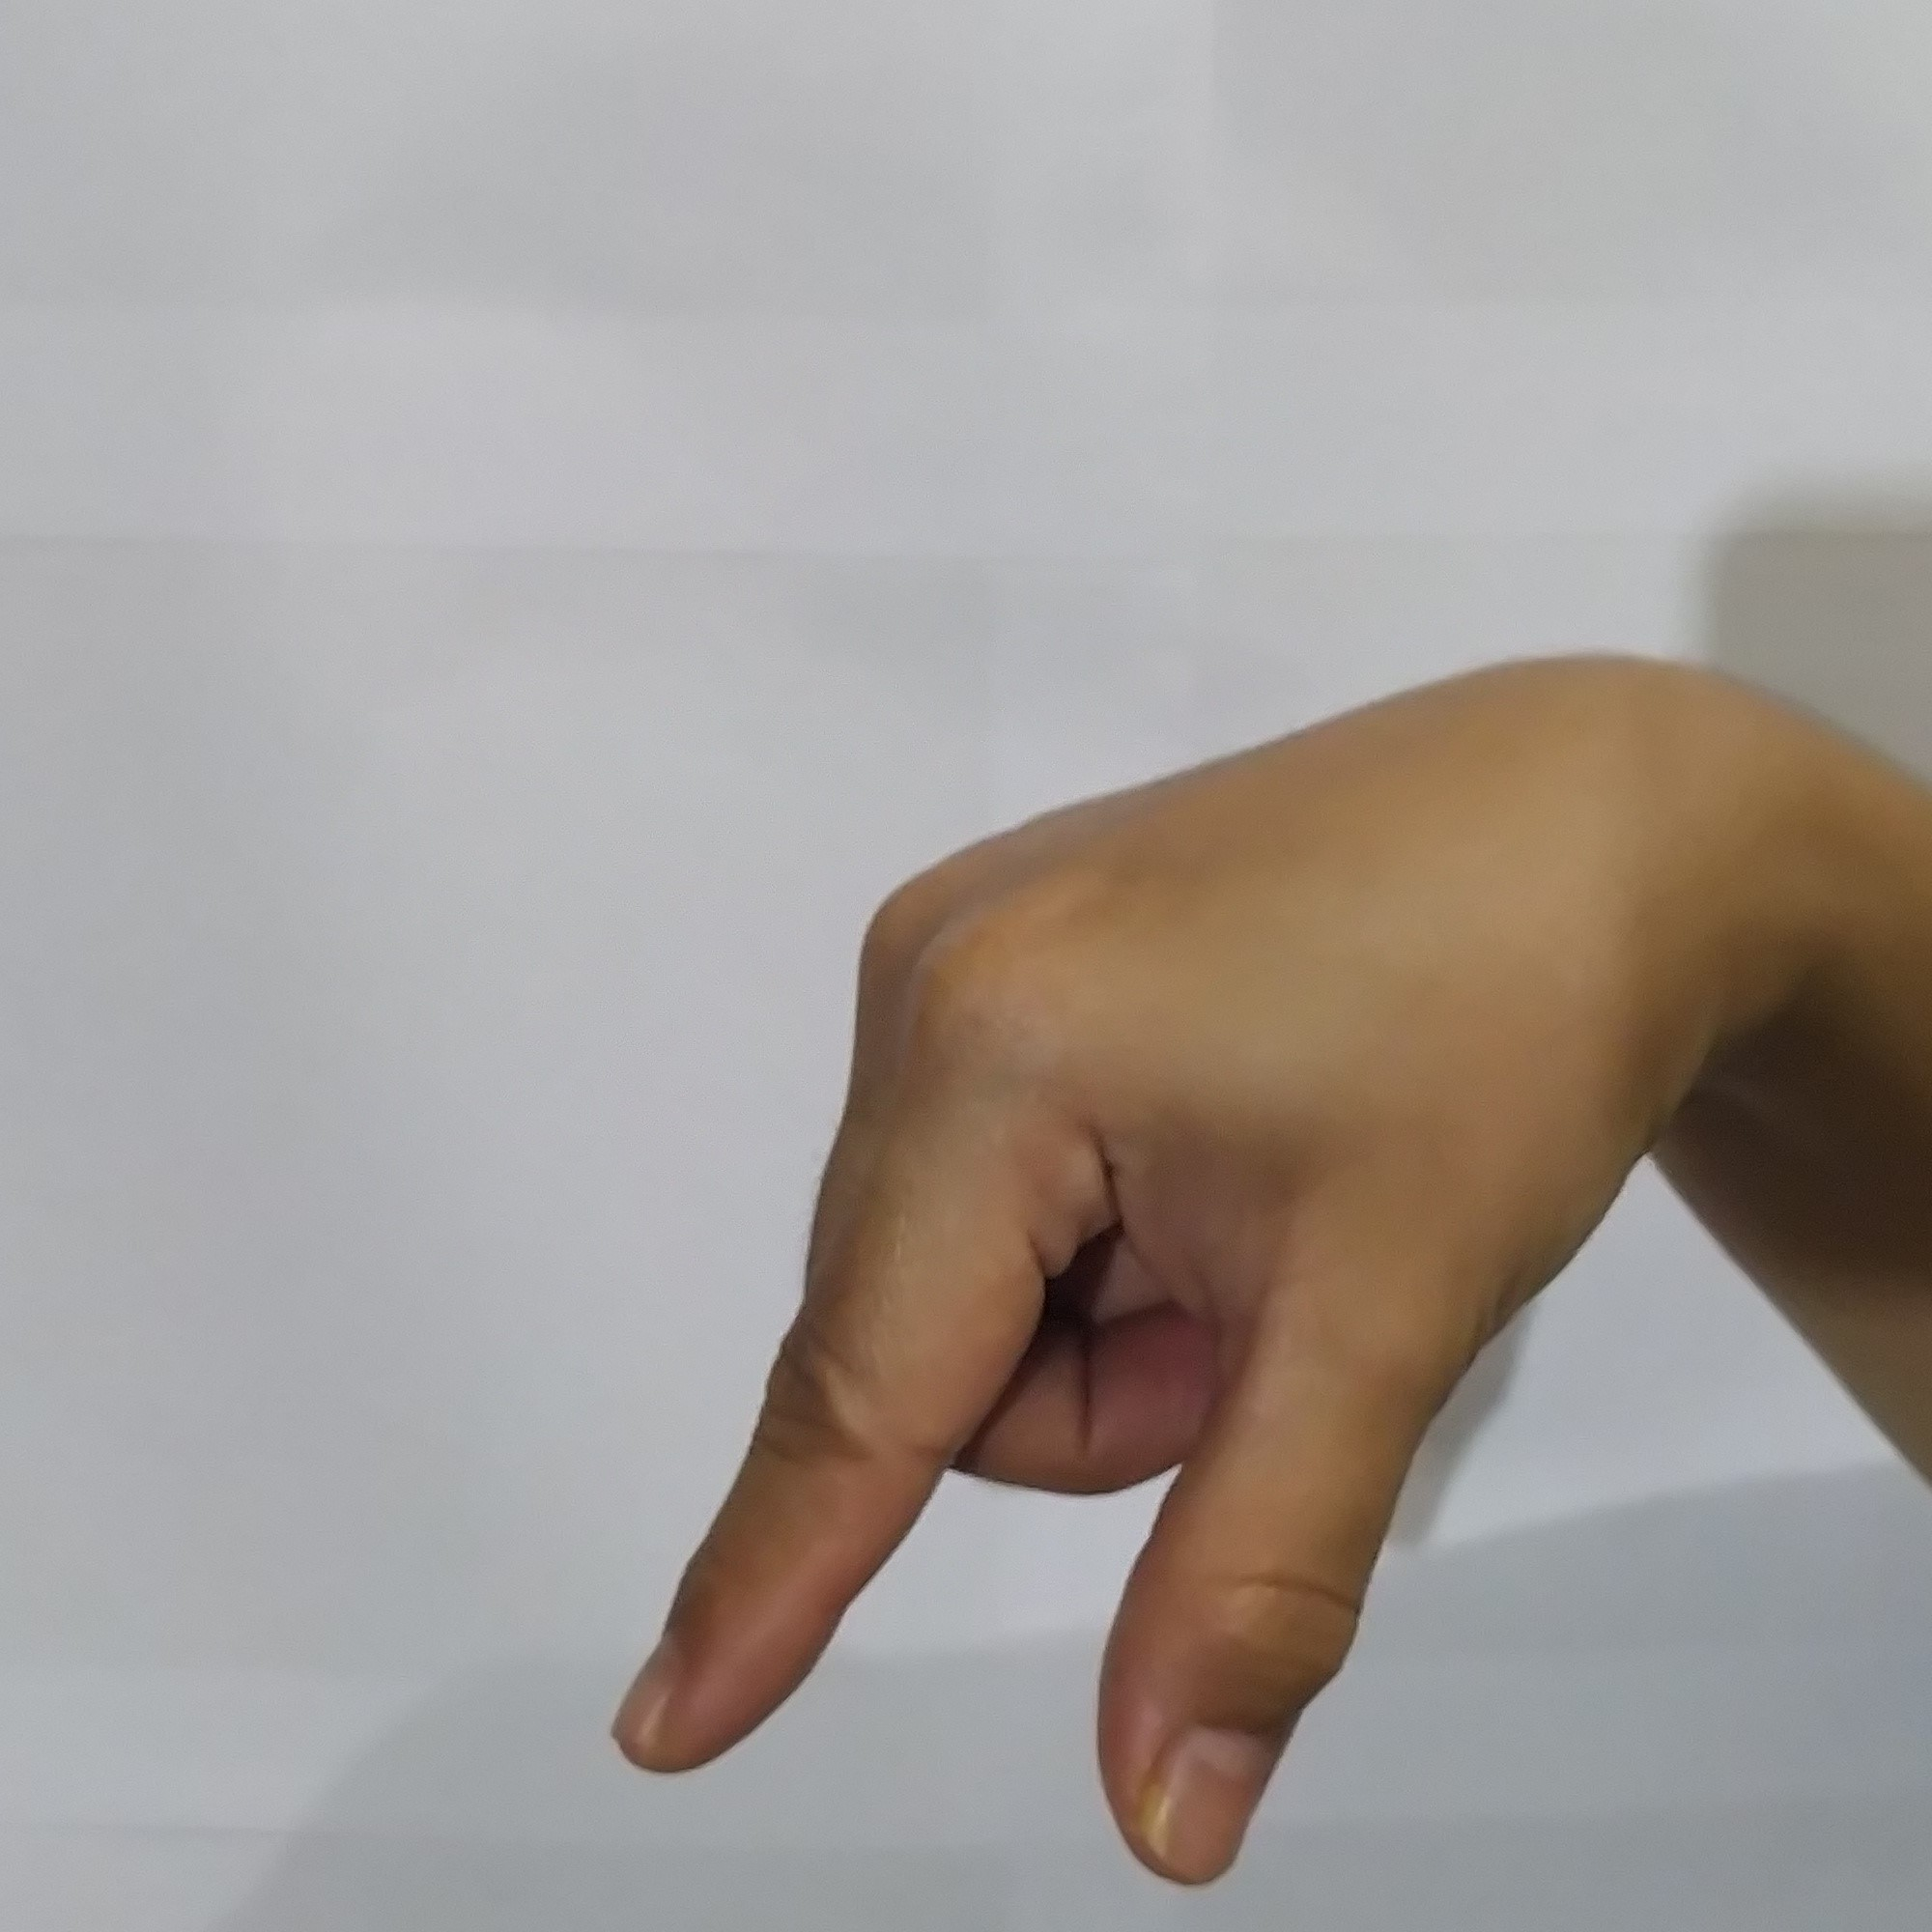Q: (554, 660, 1674, 1897)
